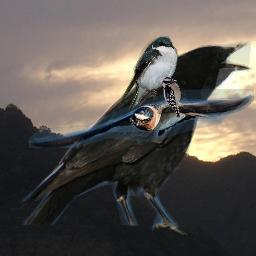Crow: (19, 39, 255, 241)
Swallow: (29, 89, 254, 148), (120, 34, 179, 113)
Woodpecker: (162, 77, 186, 118)
